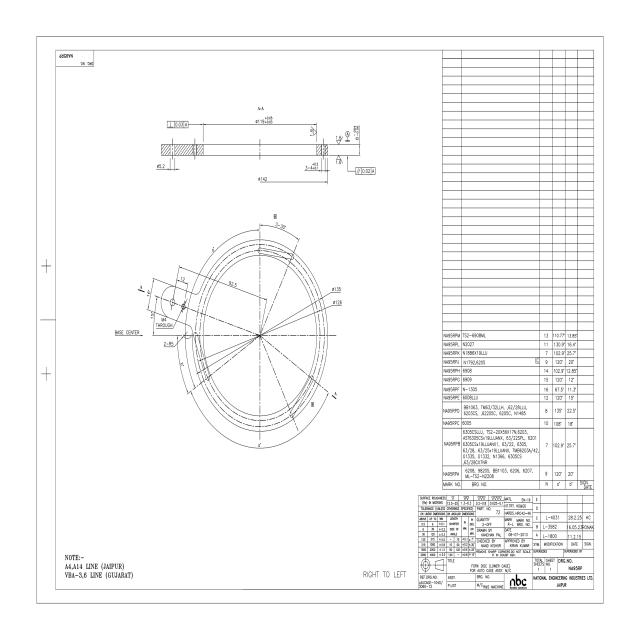dimension: (154, 316, 173, 328), (254, 115, 274, 124), (274, 220, 288, 231), (304, 160, 319, 170), (353, 124, 359, 142), (228, 279, 238, 289), (163, 340, 175, 347), (332, 298, 342, 306), (331, 286, 342, 293), (257, 176, 268, 182), (179, 275, 187, 283), (309, 125, 314, 137), (146, 288, 152, 298), (156, 163, 165, 169), (179, 360, 185, 368), (335, 135, 342, 141), (335, 160, 343, 165), (212, 244, 216, 254), (150, 311, 154, 320), (257, 442, 262, 448)
